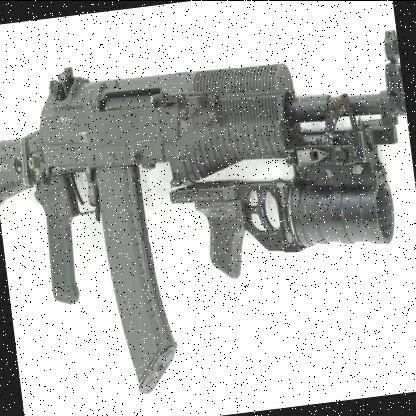rifle: (0, 1, 416, 399)
